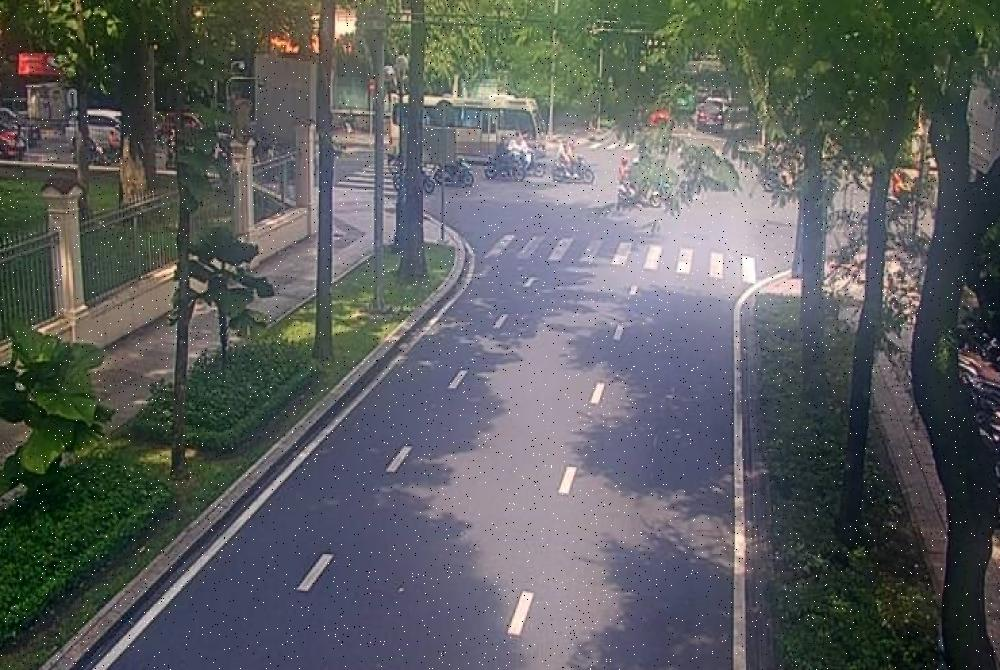bus: (386, 94, 548, 170)
